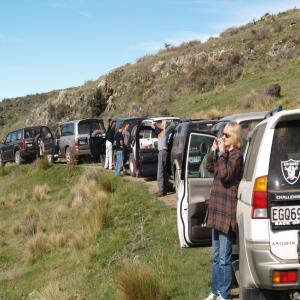Vehicle-registration-plate: (271, 205, 300, 223), (28, 144, 34, 148)
